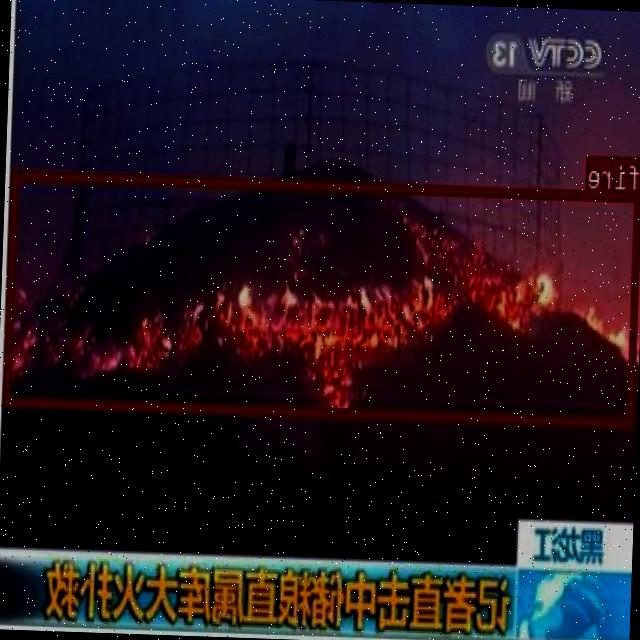fire: (5, 169, 640, 426)
